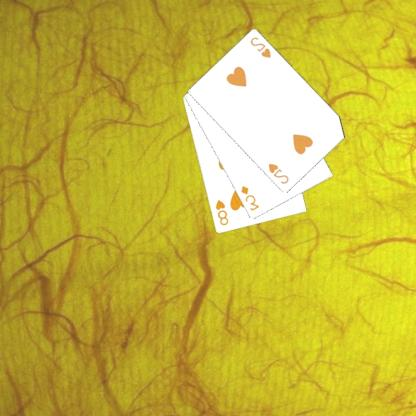2H: (249, 34, 274, 60), (267, 161, 292, 186)
3D: (240, 183, 263, 212)
8H: (214, 197, 232, 227)
